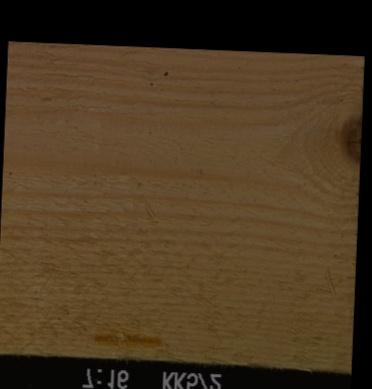sound_knot: (338, 111, 360, 165)
